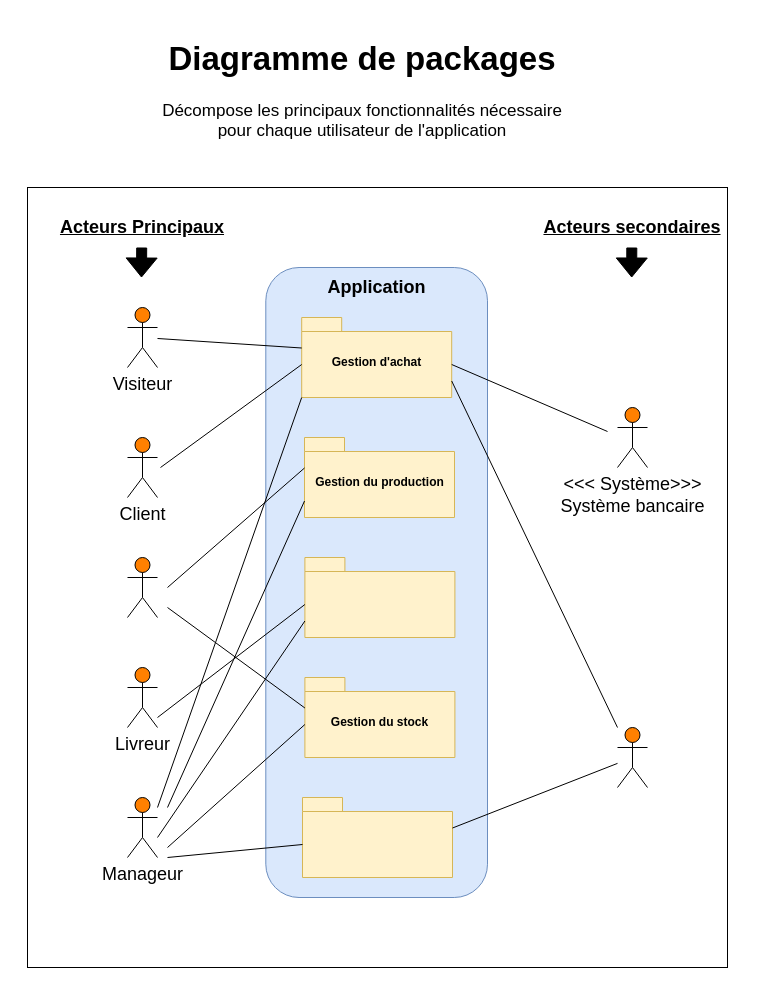
Some shapes in this 774 by 985 pixel diagram are drawn without their labels. Here are the shapes that lost their labels. From the top down, the centre of each, then its label:
pixel 142 587: Pizzaiolo
pixel 379 597: Gestion de la livraison
pixel 632 757: <<< Système>>> Comptabilité
pixel 377 837: Gestion administrative
